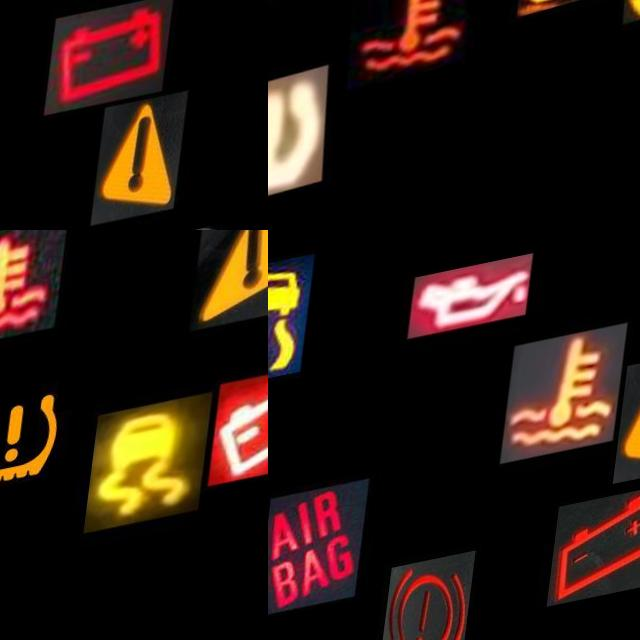Central Warning lamp: (101, 112, 196, 230), (197, 230, 268, 343)
Engine cooling system: (510, 340, 634, 477), (353, 0, 491, 104), (0, 230, 73, 352)
